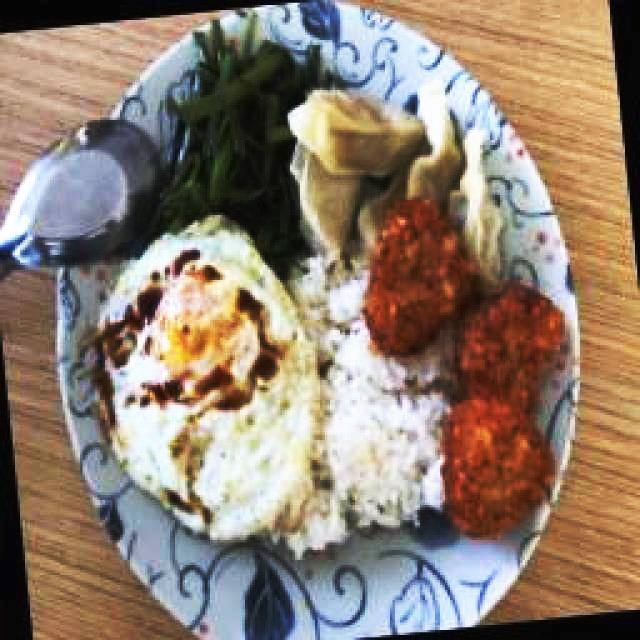chicken_nuggets: (363, 196, 478, 354), (444, 386, 554, 536), (451, 278, 566, 421)
fried_eggs: (92, 212, 323, 544)
rice: (323, 360, 437, 538), (324, 278, 364, 533)
water_spinach: (152, 11, 331, 261)
